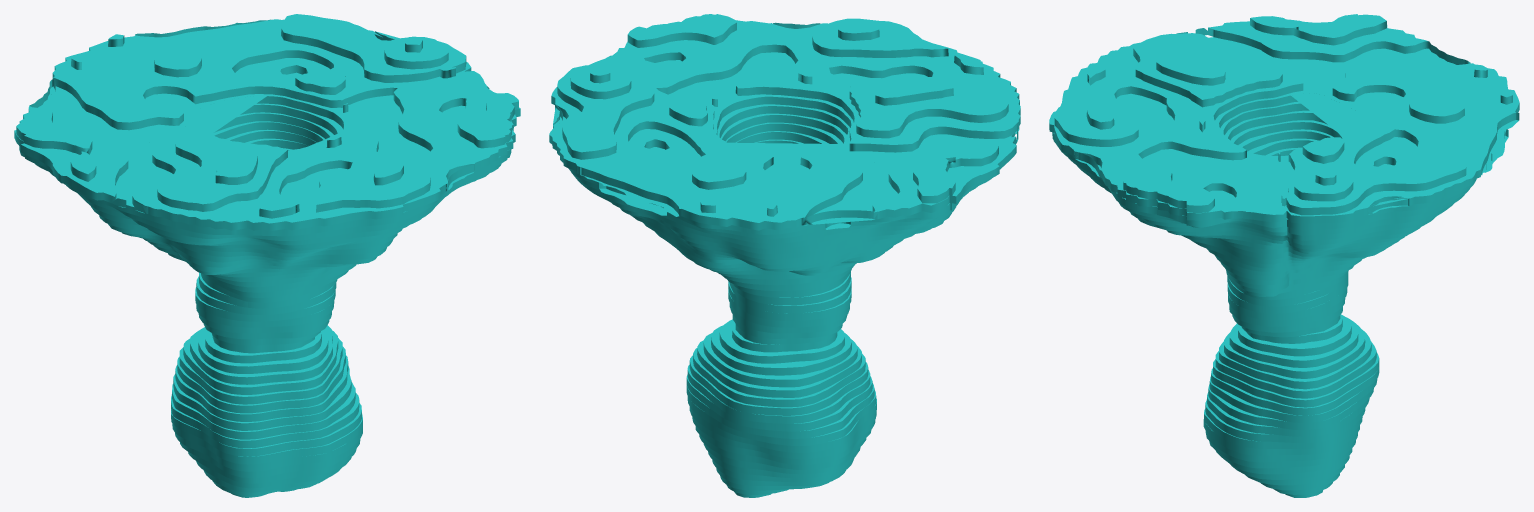
Rendered from 3d-printed.glb.
3 views of the same model, side by side, from view 1: azimuth 30°, elevation 25°; view 2: azimuth 150°, elevation 25°; view 3: azimuth 270°, elevation 25° (orthographic). The views are drawn at different scales.
Parts seen in each view (by area): view 1: 3dprinted; view 2: 3dprinted; view 3: 3dprinted.
Boxes of the visible parts, bbox=[...] form: 3dprinted: bbox=[14, 14, 520, 497]; 3dprinted: bbox=[549, 14, 1020, 497]; 3dprinted: bbox=[1049, 14, 1519, 497].
Size of the model in its own units: 4.61 by 4.16 by 4.64.
